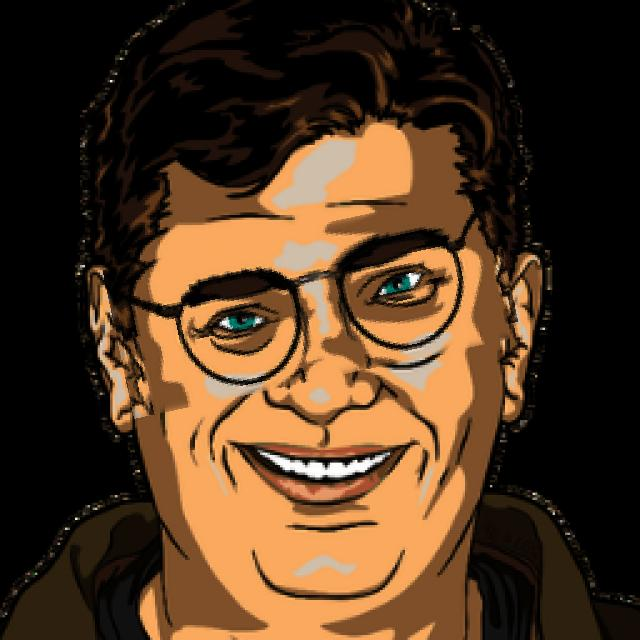glasses: (109, 208, 515, 400)
